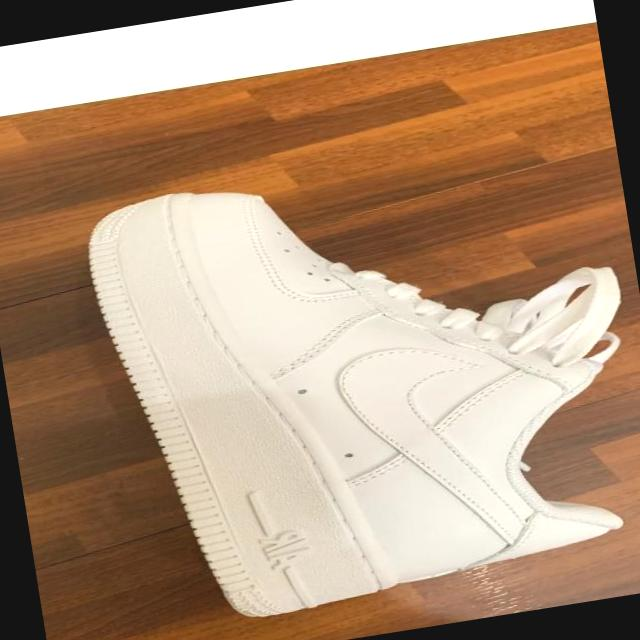nike_original_airforce: (77, 132, 640, 637)
